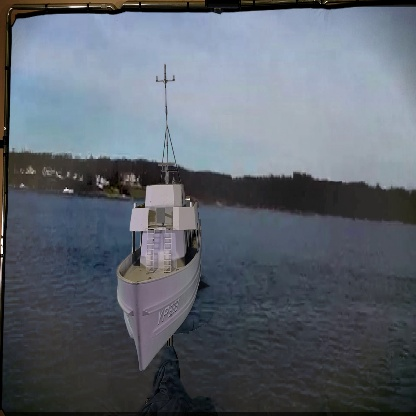YP689: (114, 58, 201, 373)
